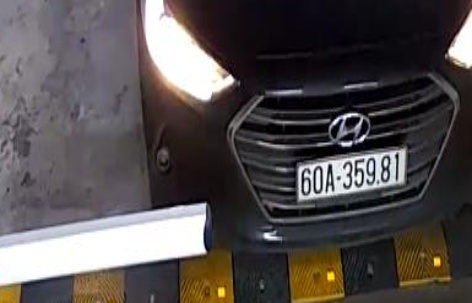plate: (292, 146, 415, 200)
